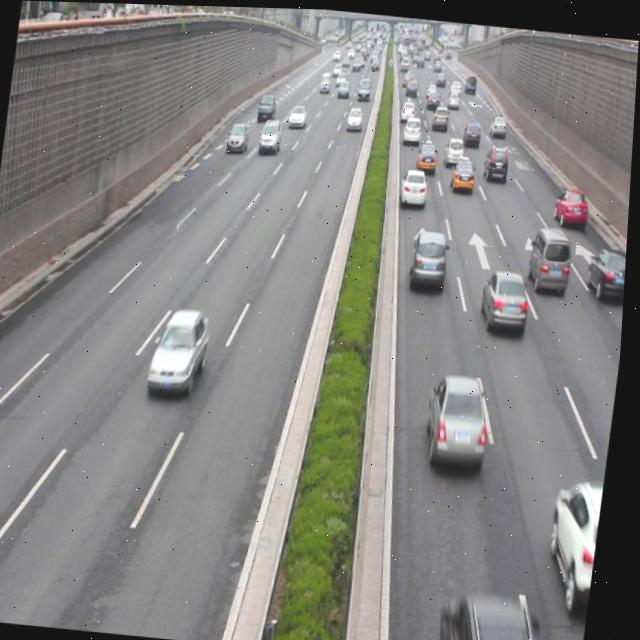car: (549, 472, 610, 602), (426, 366, 497, 465), (442, 582, 557, 640), (150, 303, 215, 395), (480, 263, 533, 330), (409, 224, 452, 289), (586, 239, 630, 299), (555, 180, 590, 225), (399, 163, 427, 206), (257, 114, 285, 155), (482, 142, 511, 181), (452, 154, 477, 190), (227, 117, 252, 152), (416, 134, 440, 170), (445, 133, 467, 162), (403, 113, 424, 143), (462, 116, 484, 144), (288, 101, 309, 129)
truck: (529, 221, 574, 295)
